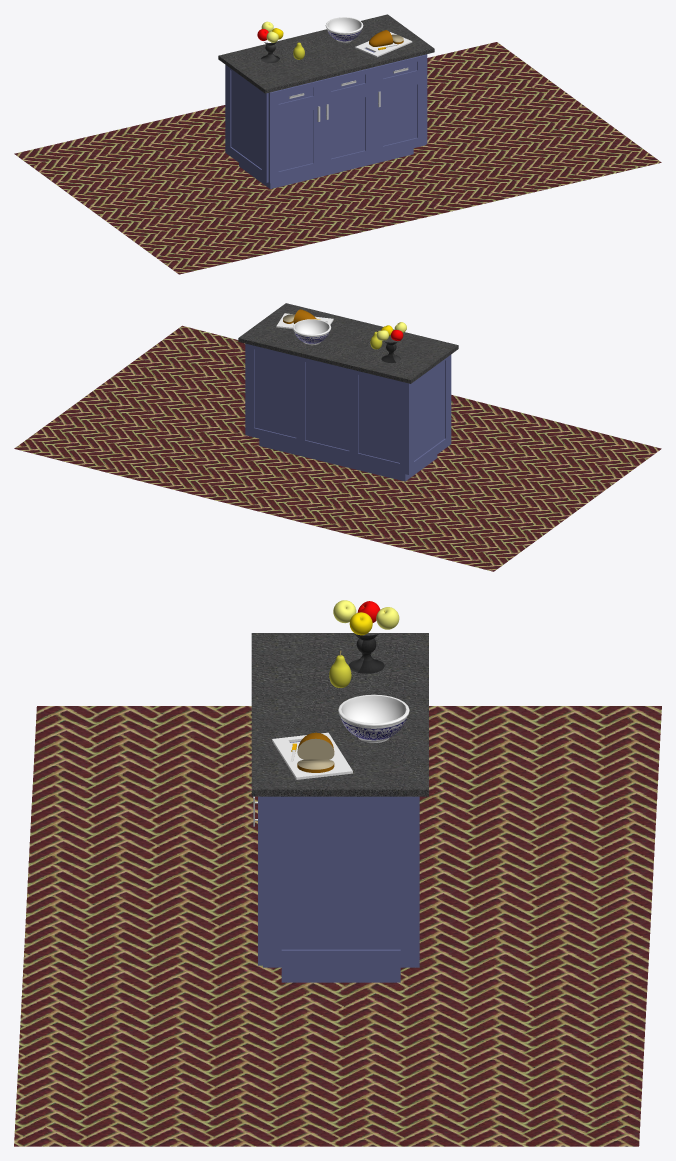
File: shaker_kitchen_island.glb
3 views of the same model, one above another, from view 1: azimuth 30°, elevation 25°; view 2: azimuth 150°, elevation 25°; view 3: azimuth 270°, elevation 25° (orthographic). The views are drawn at different scales.
Visible parts, largest first — view 1: Material2 (×4); view 2: Material2 (×4); view 3: Material2 (×7).
Boxes of the visible parts, left/top/right/bottom form: Material2 (×4): left=14, top=14, right=661, bottom=274; Material2 (×4): left=14, top=303, right=661, bottom=571; Material2 (×7): left=14, top=600, right=661, bottom=1146.
Size of the model in its own units: 165 by 46.43 by 102.
18 materials, 7 textured.
